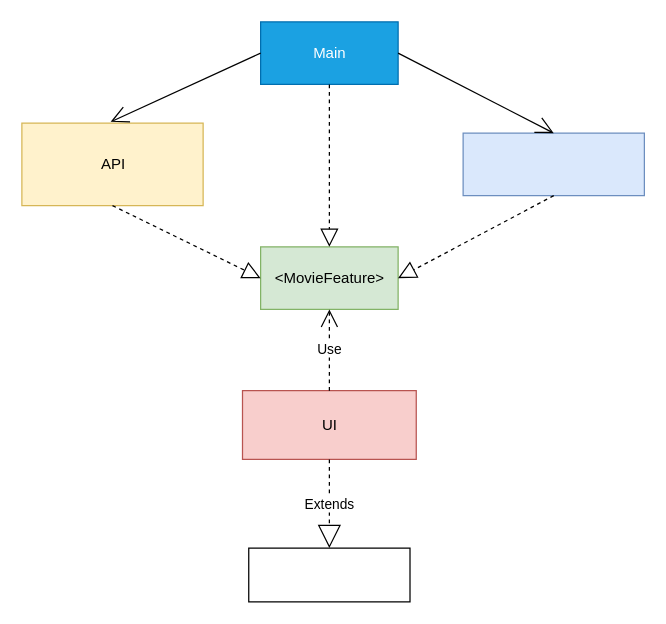
This 666x624 diagram has some shape labels left out. The centre of each missing label's shape, as x and y in pixels:
Database: the point at 553,164
UIKit: the point at 329,574
